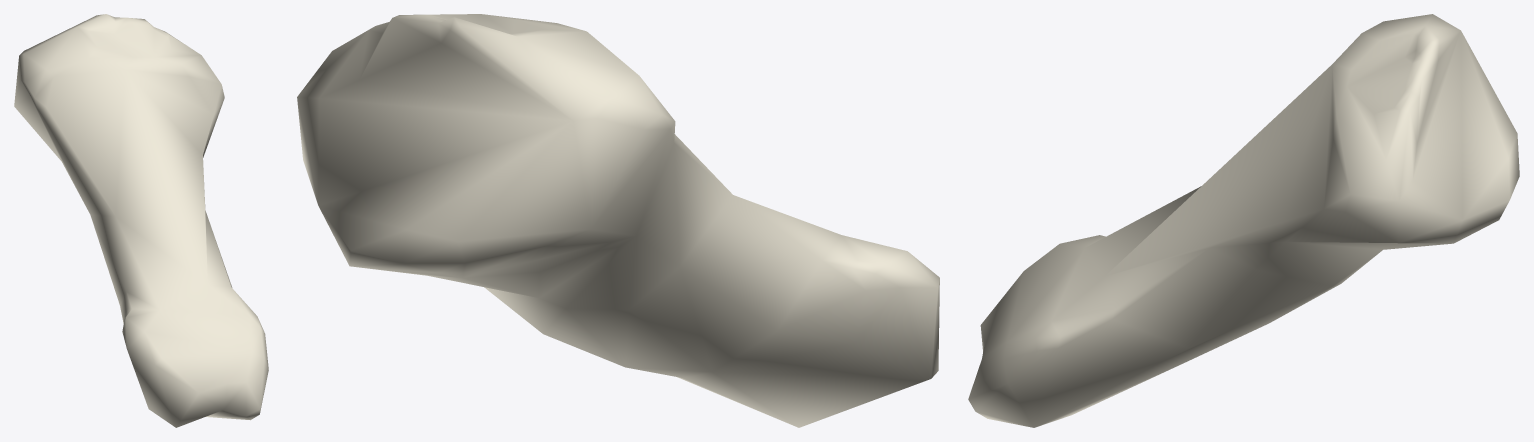
The picture shows the model from 3 angles, left to right: view 1: azimuth 30°, elevation 25°; view 2: azimuth 150°, elevation 25°; view 3: azimuth 270°, elevation 25°; orthographic projection. The views are drawn at different scales.
Parts seen in each view (by area): view 1: ZA_754686312c3d292f; view 2: ZA_754686312c3d292f; view 3: ZA_754686312c3d292f.
Part boxes in pixels (box(x1,y1,x2,y2)): ZA_754686312c3d292f: box(14, 14, 268, 427); ZA_754686312c3d292f: box(297, 14, 939, 427); ZA_754686312c3d292f: box(968, 14, 1519, 427).
Bounding box in the file's own units: 0.0104 × 0.0143 × 0.0176.
